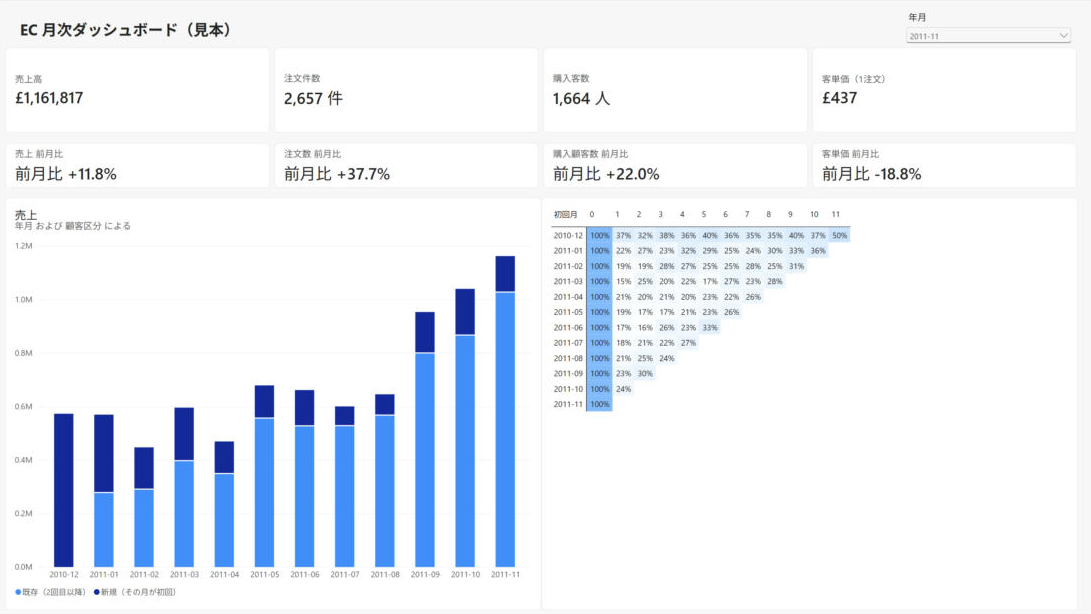

This screenshot's page, from the dashboard's own definition file:
{"tool":"powerbi","page":{"name":"ページ 1","canvas":[1920,1080],"ordinal":0},"visuals":[{"type":"cardVisual","fields":{"Data":["fact_sales.売上 前月比","fact_sales.注文数 前月比","fact_sales.購入顧客数 前月比","fact_sales.客単価 前月比"]},"box":[10.1,250.5,1886.2,79.2],"z":1000},{"type":"columnChart","fields":{"Category":["Calendar.年月"],"Series":["fact_sales.顧客区分"],"Y":["fact_sales.売上"]},"box":[10.1,347.2,943.1,724.8],"z":2000},{"type":"pivotTable","fields":{"Columns":["経過月.Value"],"Rows":["dim_customer.初回月"],"Values":["fact_sales.コホート 継続率"]},"box":[953.2,347.2,943.1,724.8],"z":3000},{"type":"slicer","fields":{"Values":["Calendar.年月"]},"box":[1589.6,16.6,299.3,72.8],"z":4000},{"type":"textbox","box":[35.9,31.3,979.9,75.5],"z":5000},{"type":"cardVisual","fields":{"Data":["fact_sales.売上（表示）","fact_sales.注文数（表示）","fact_sales.購入顧客数（表示）","fact_sales.客単価（表示）"]},"box":[10.1,82.9,1886.2,150.1],"z":5001}]}

Visuals, with their boxes in screenshot pixels (x1, y1, x2, y2), scaled from the page's 1920x1080 canvas onto the 1091x614 screenshot:
cardVisual - fact_sales.売上 前月比 x fact_sales.注文数 前月比: x1=6 y1=142 x2=1078 y2=187
columnChart - Calendar.年月 x fact_sales.顧客区分: x1=6 y1=197 x2=542 y2=609
pivotTable - 経過月.Value x dim_customer.初回月: x1=542 y1=197 x2=1078 y2=609
slicer - Calendar.年月: x1=903 y1=9 x2=1073 y2=51
textbox: x1=20 y1=18 x2=577 y2=61
cardVisual - fact_sales.売上（表示） x fact_sales.注文数（表示）: x1=6 y1=47 x2=1078 y2=132
